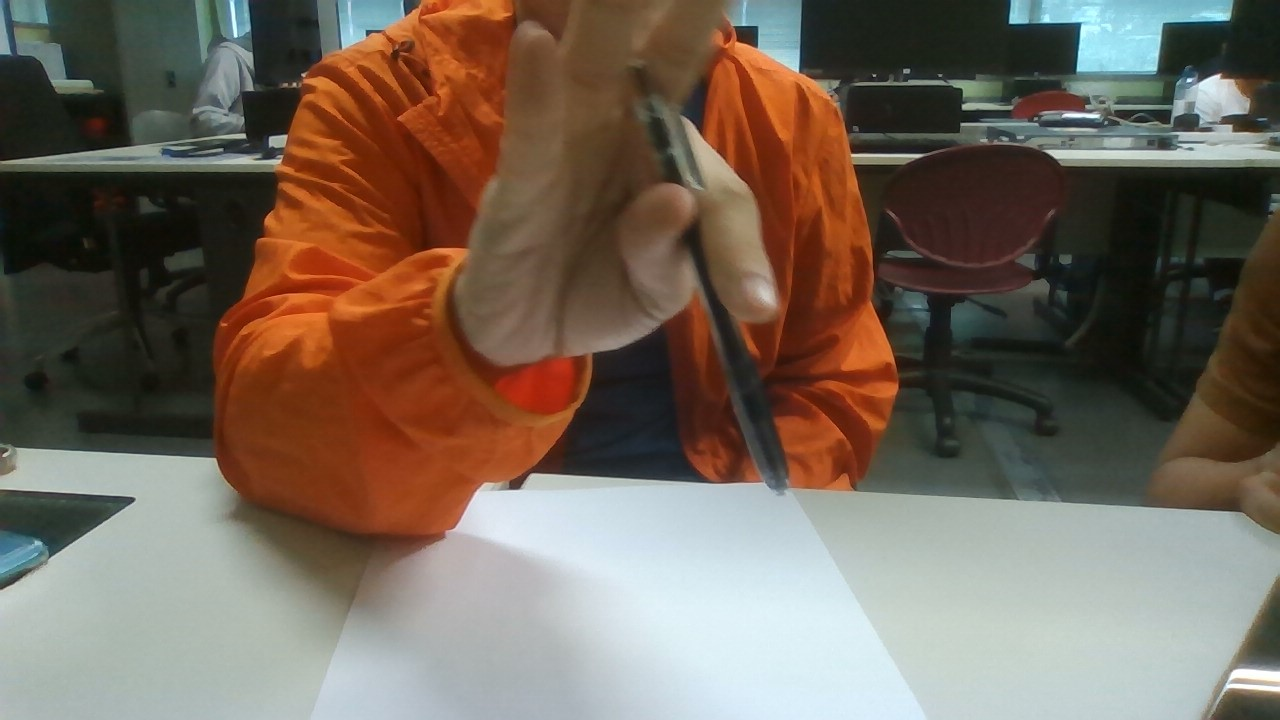pen: (623, 57, 794, 495)
